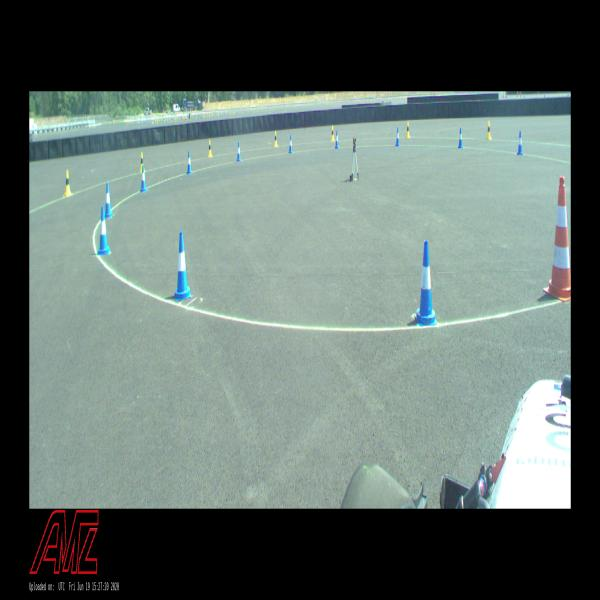blue_cone: (414, 241, 438, 326), (174, 232, 192, 300), (97, 207, 111, 255), (105, 182, 112, 218), (140, 166, 148, 192), (517, 131, 523, 155), (187, 151, 192, 174), (458, 128, 463, 149), (236, 142, 241, 162), (335, 130, 339, 149), (289, 135, 293, 153), (396, 127, 399, 146)
large_orange_cone: (543, 177, 571, 301)
yellow_cone: (64, 170, 72, 196), (486, 121, 491, 139), (208, 140, 213, 157), (406, 122, 410, 138), (274, 131, 278, 147), (140, 152, 143, 173), (331, 126, 335, 141)
